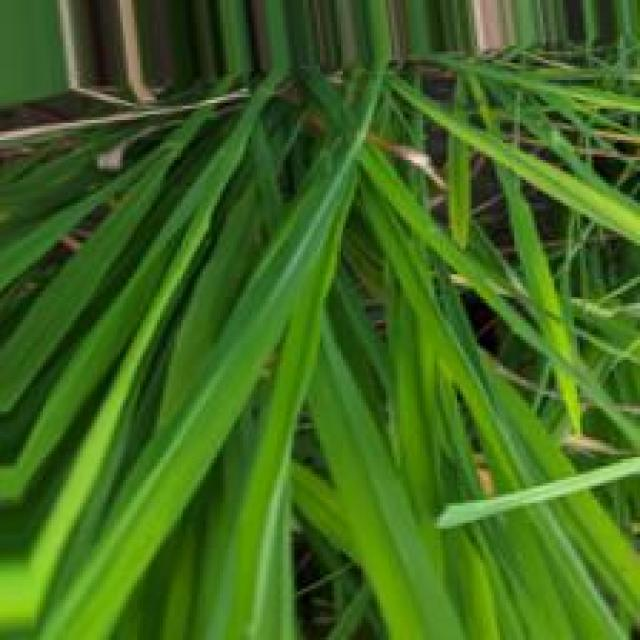HealthyLeaf: (123, 341, 261, 528), (329, 431, 425, 573)
